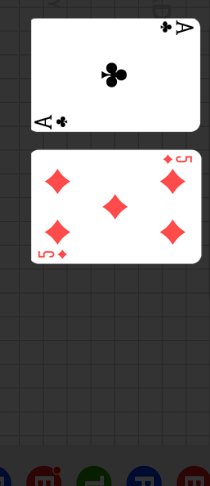5D: (36, 248, 69, 260)
AC: (157, 20, 195, 37)
